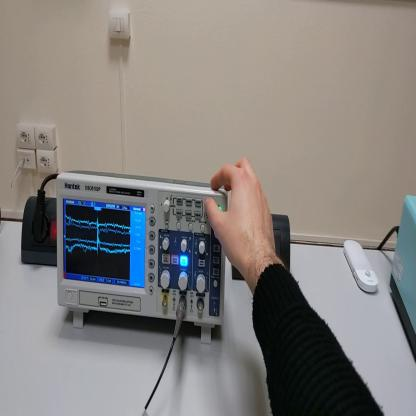hand: (205, 157, 278, 276)
oscilloscope: (56, 169, 229, 344)
socket: (21, 198, 56, 267)
welder station: (392, 194, 416, 360)
